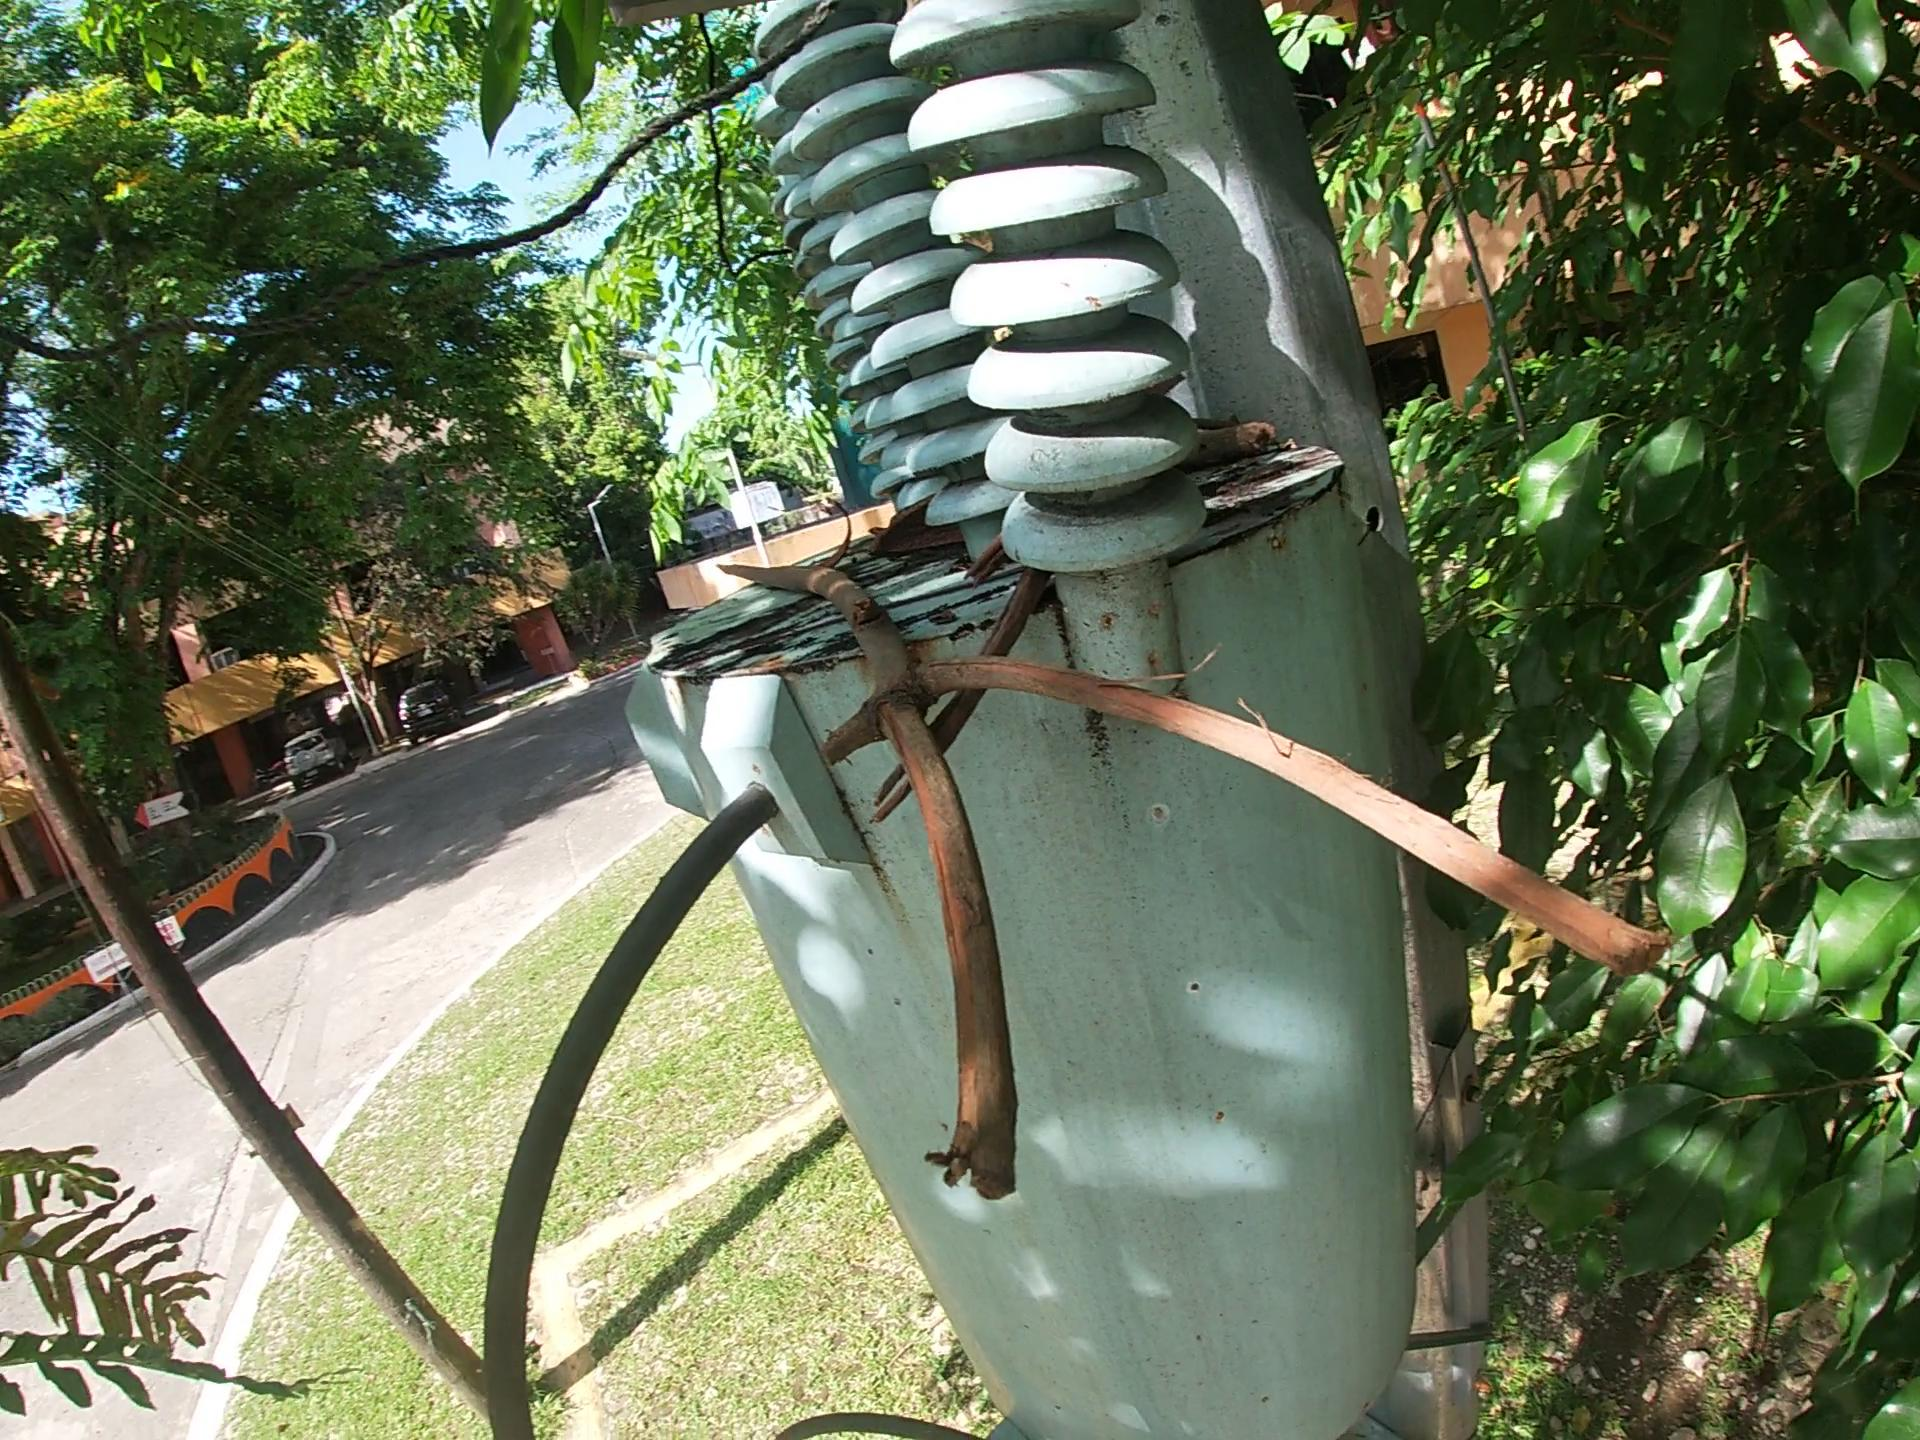mahogany fruit: (865, 492, 965, 566), (813, 495, 854, 570)
tree branch: (700, 552, 1681, 1207), (859, 532, 1055, 836), (1184, 411, 1285, 467)
